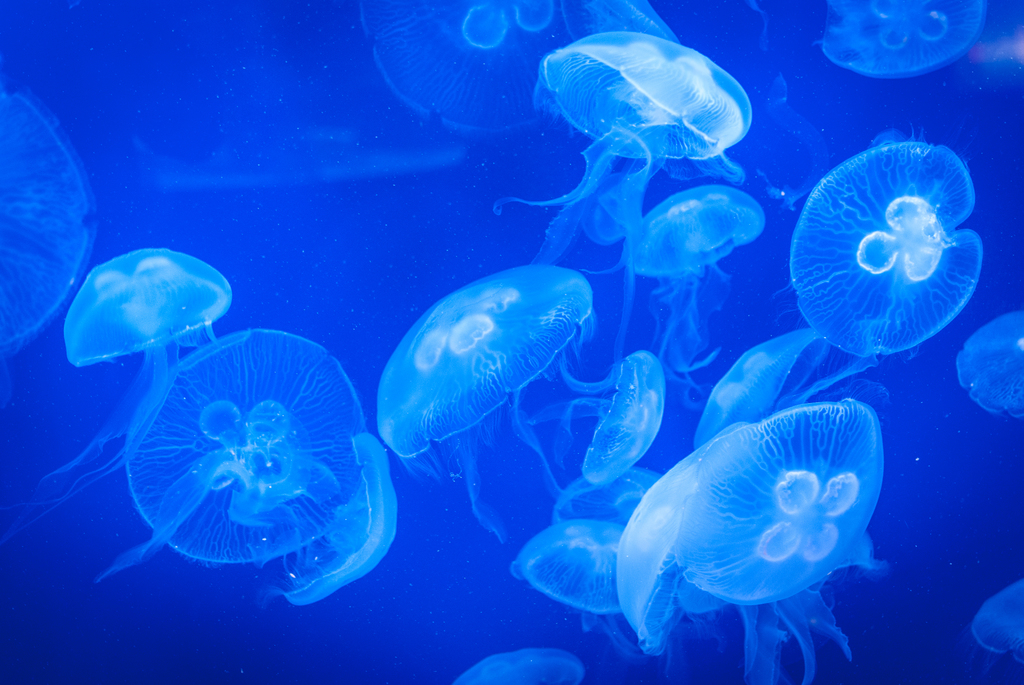Jellyfish: (0, 0, 1023, 684), (353, 0, 1023, 684), (92, 326, 372, 584), (769, 117, 983, 362), (0, 90, 96, 368), (64, 250, 232, 388)
